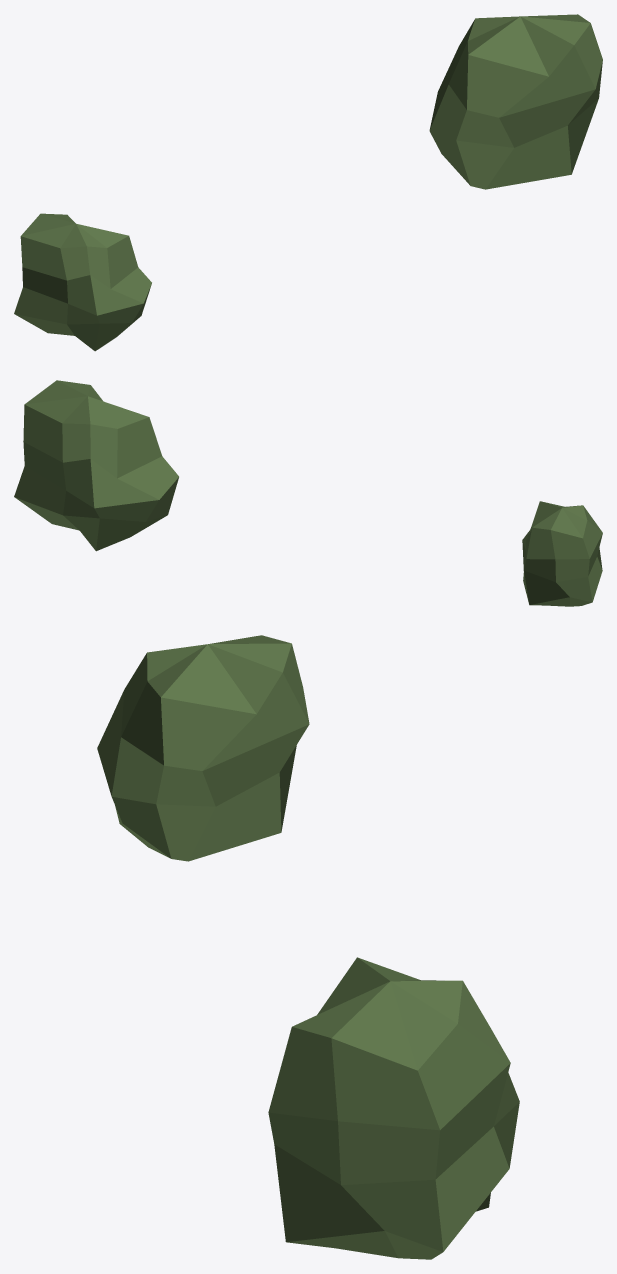
File: arbustos.glb
The picture shows the model from 3 angles, top to bottom: view 1: azimuth 30°, elevation 25°; view 2: azimuth 150°, elevation 25°; view 3: azimuth 270°, elevation 25°; orthographic projection. The views are drawn at different scales.
Parts seen in each view (by area): view 1: Tree_PROXY; view 2: Tree_PROXY; view 3: Tree_PROXY.
Boxes of the visible parts, x1,y1,x2,y2 form: Tree_PROXY: (14,14,602,351); Tree_PROXY: (14,380,602,606); Tree_PROXY: (97,635,519,1259).
Size of the model in its own units: 28.65 by 6.87 by 9.87.
